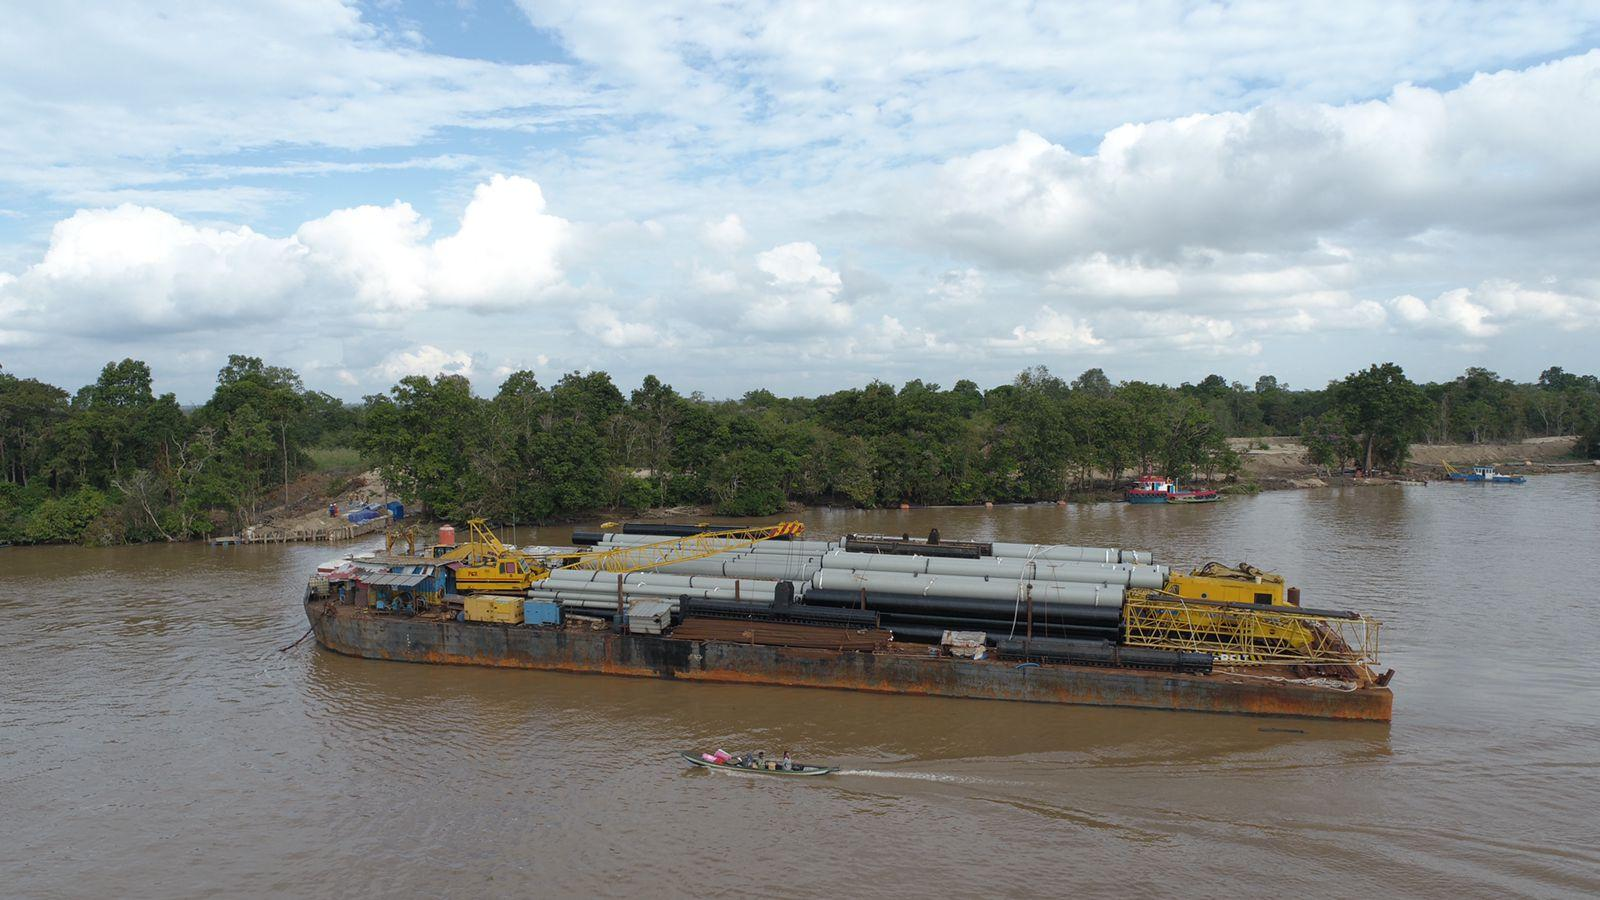Ship: (296, 527, 1409, 733)
